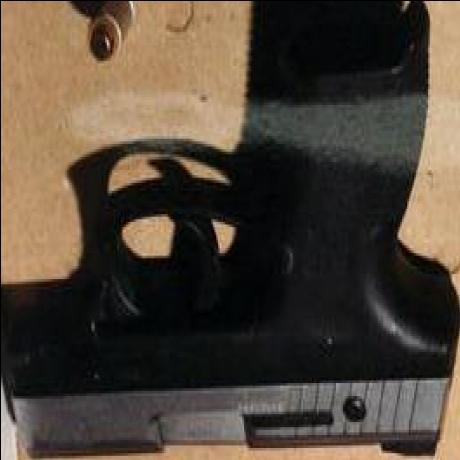weapon: (0, 1, 460, 458)
